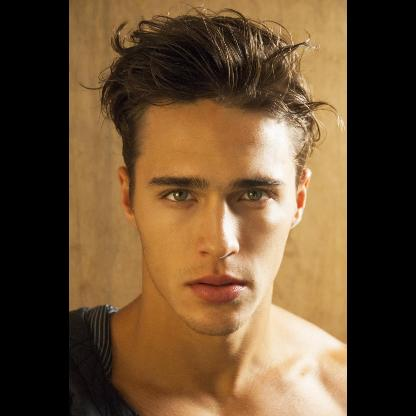Male: (117, 101, 309, 338)
